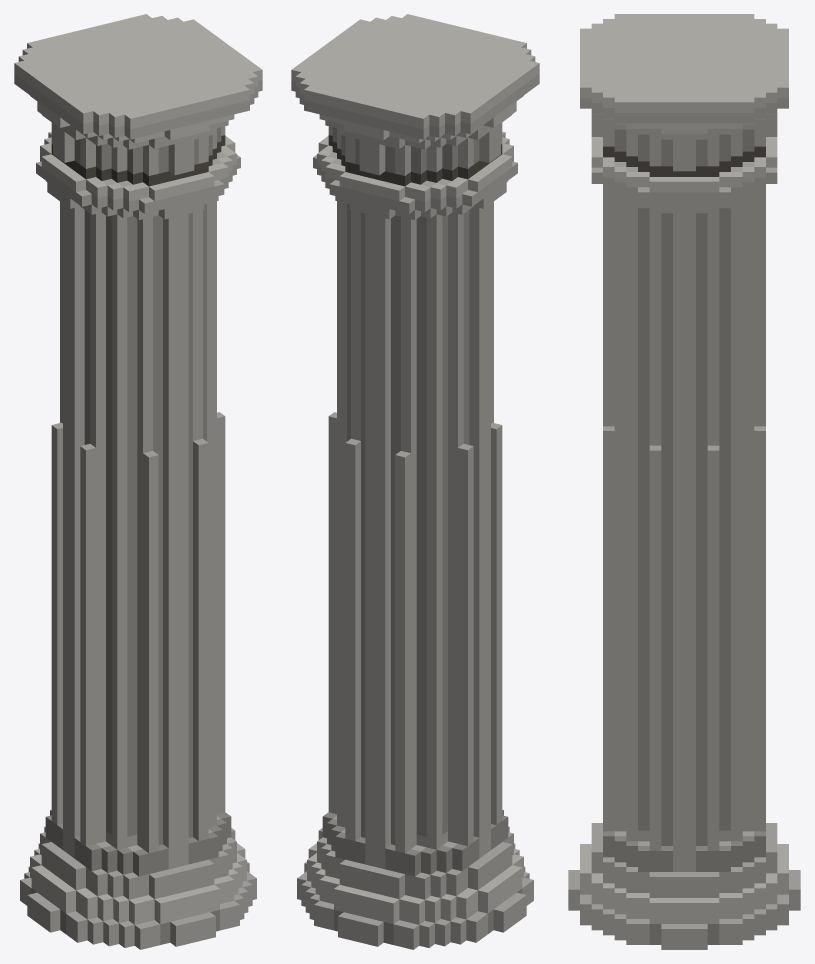
File: stone_pillar_h80-v2.obj
The picture shows the model from 3 angles, left to right: view 1: azimuth 30°, elevation 25°; view 2: azimuth 150°, elevation 25°; view 3: azimuth 270°, elevation 25°; orthographic projection.
Size of the model in its own units: 2 by 8 by 2.
Materials: 1 (1 with a texture image).
